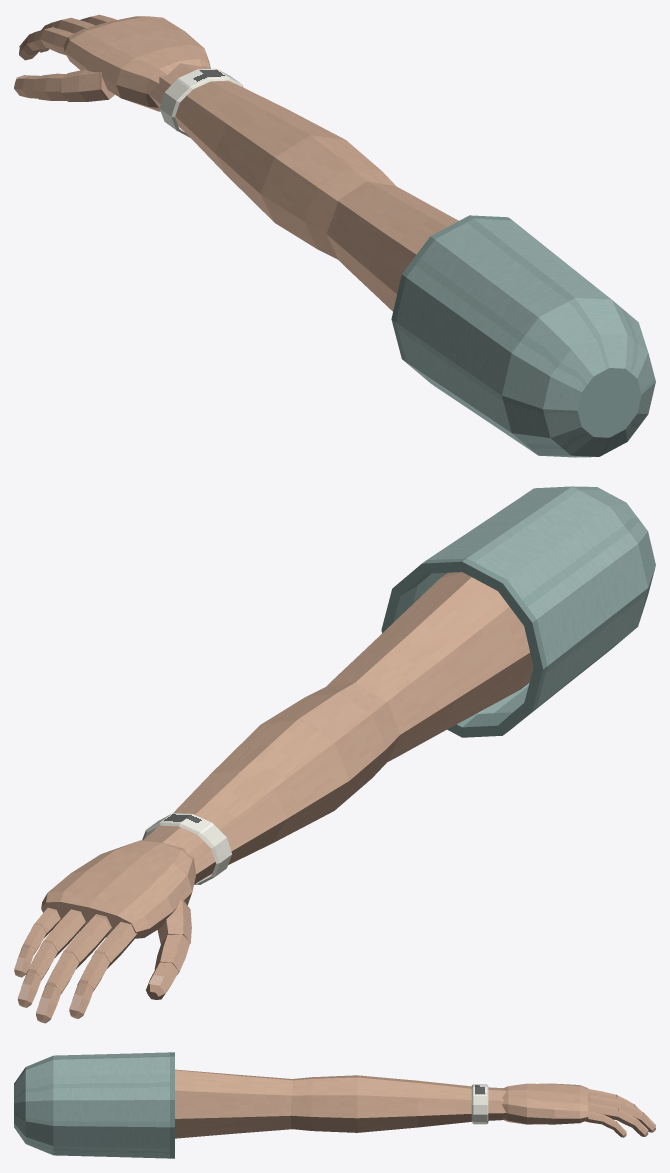
File: arm.glb
3 renders of one model, top to bottom at view 1: azimuth 30°, elevation 25°; view 2: azimuth 150°, elevation 25°; view 3: azimuth 270°, elevation 25°, orthographic. The views are drawn at different scales.
Visible parts, largest first — view 1: sleeve, forearm_mesh, upper_arm_mesh, palm, wristband, thumb_1_mesh, thumb_2_mesh; view 2: sleeve, forearm_mesh, upper_arm_mesh, palm, sleeve_hem, wristband, middle_1_mesh, ring_1_mesh, index_1_mesh, thumb_2_mesh, thumb_1_mesh; view 3: sleeve, forearm_mesh, upper_arm_mesh, palm, wristband, ring_1_mesh, middle_1_mesh, ring_2_mesh, middle_2_mesh.
Boxes of the visible parts, box(x1,y1,x2,y2) form: sleeve: box(391, 215, 655, 457); forearm_mesh: box(149, 63, 396, 259); upper_arm_mesh: box(326, 181, 458, 311); palm: box(63, 16, 210, 111); wristband: box(159, 68, 243, 137); thumb_1_mesh: box(61, 69, 114, 101); thumb_2_mesh: box(32, 73, 68, 100); sleeve: box(413, 486, 655, 734); forearm_mesh: box(143, 682, 400, 884); upper_arm_mesh: box(326, 572, 533, 761); palm: box(41, 840, 195, 938); sleeve_hem: box(381, 561, 542, 737); wristband: box(142, 813, 232, 884); middle_1_mesh: box(60, 914, 111, 968); ring_1_mesh: box(41, 909, 85, 957); index_1_mesh: box(91, 922, 136, 968); thumb_2_mesh: box(154, 934, 190, 974); thumb_1_mesh: box(157, 898, 191, 943); sleeve: box(14, 1052, 174, 1158); forearm_mesh: box(291, 1075, 506, 1132); upper_arm_mesh: box(175, 1069, 292, 1138); palm: box(502, 1083, 588, 1124); wristband: box(471, 1084, 488, 1124); ring_1_mesh: box(588, 1102, 618, 1119); middle_1_mesh: box(588, 1094, 623, 1110); ring_2_mesh: box(616, 1108, 636, 1127); middle_2_mesh: box(621, 1101, 643, 1120).
Size of the model in its own units: 0.133 by 0.1326 by 0.7924.
Materials: 1 (1 with a texture image).
